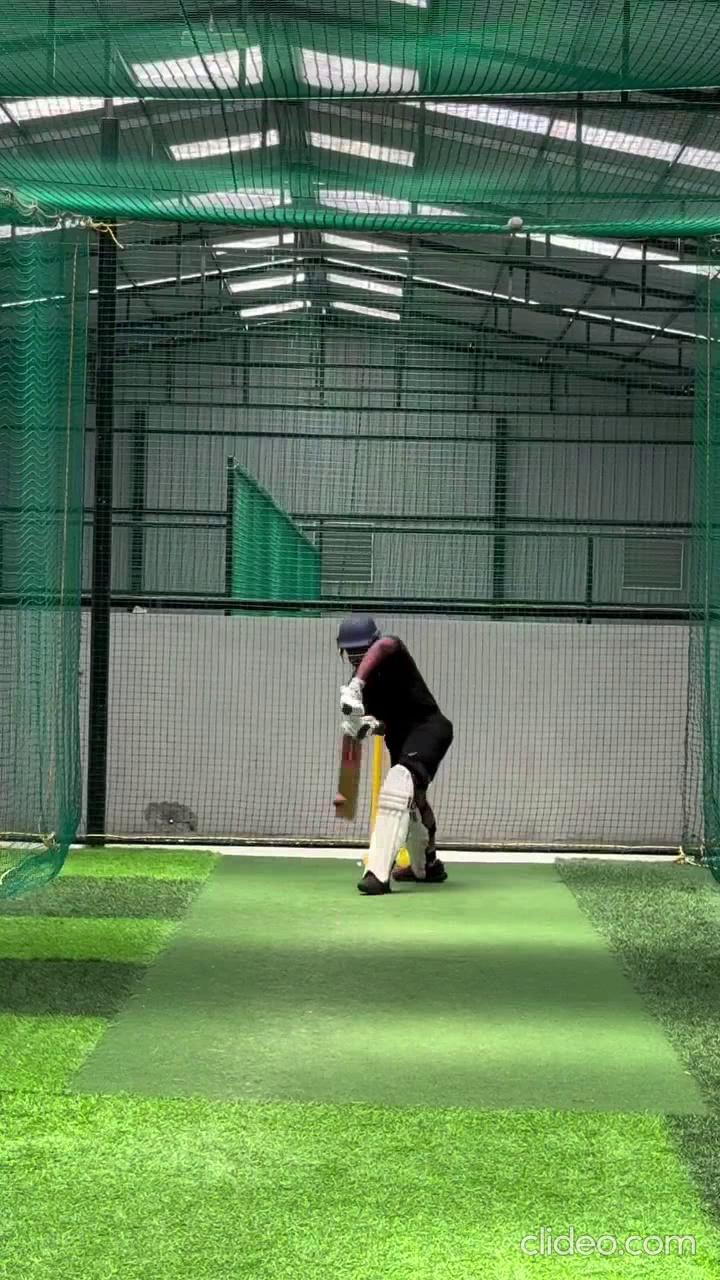bat: (335, 735, 362, 822)
